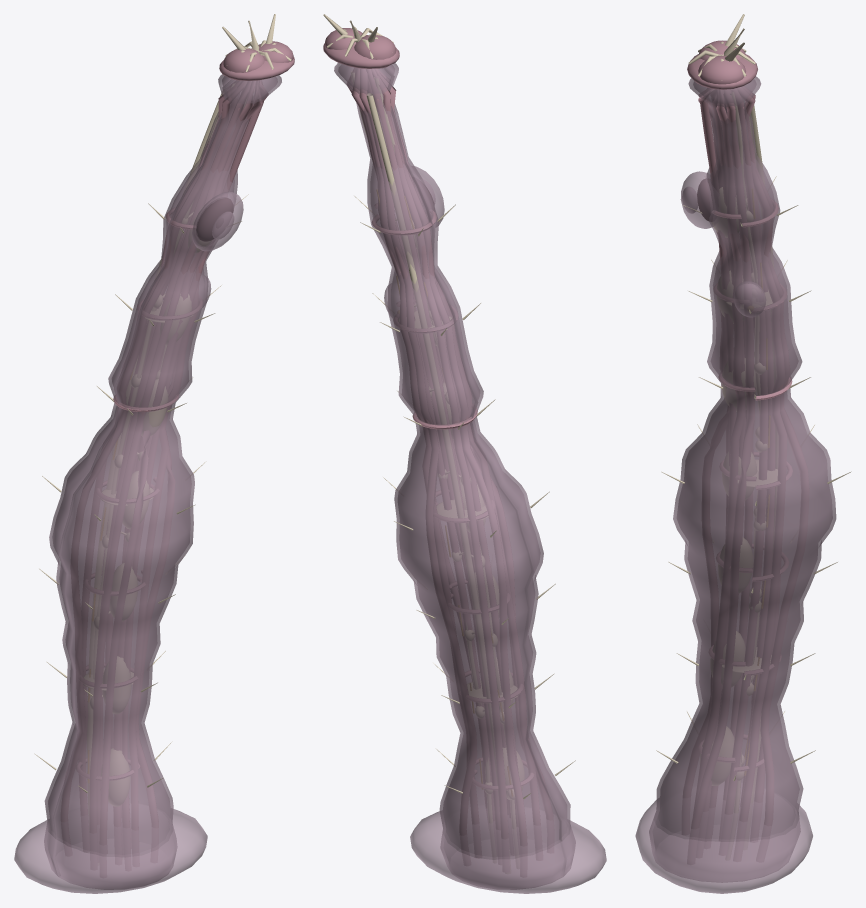
File: gang_normal.glb
3 renders of one model, left to right at view 1: azimuth 30°, elevation 25°; view 2: azimuth 150°, elevation 25°; view 3: azimuth 270°, elevation 25°, orthographic. The views are drawn at different scales.
Visible parts, largest first — view 1: MEMBRANE_epithelial_shell, MUSCLE, MEMBRANE_root_collar, PRESSURE, VASCULAR_dorsal_channel, OCELLUS_cornea, DIGESTIVE_intake_groove, NERVE, PIGMENT_retinal_cup, TIP_adhesive_disk, CILIUM, TIP_probing_lobe; view 2: MEMBRANE_epithelial_shell, MUSCLE, MEMBRANE_root_collar, DIGESTIVE_intake_groove, NERVE, TIP_adhesive_disk, CILIUM, PRESSURE, TIP_probing_lobe, OCELLUS_cornea, COLLAGEN, GANGLION; view 3: MEMBRANE_epithelial_shell, MUSCLE, MEMBRANE_root_collar, PRESSURE, VASCULAR_dorsal_channel, OCELLUS_cornea, NERVE, TIP_probing_lobe.001, DIGESTIVE_intake_groove, STATOCYST_chamber, TIP_adhesive_disk, CILIUM (+3 smaller).
Boxes of the visible parts, bbox=[...] form: MEMBRANE_epithelial_shell: bbox=[44, 74, 281, 889]; MUSCLE: bbox=[61, 80, 268, 845]; MEMBRANE_root_collar: bbox=[14, 808, 207, 893]; PRESSURE: bbox=[101, 218, 211, 806]; VASCULAR_dorsal_channel: bbox=[122, 99, 263, 828]; OCELLUS_cornea: bbox=[192, 191, 243, 251]; DIGESTIVE_intake_groove: bbox=[87, 91, 223, 815]; NERVE: bbox=[93, 84, 245, 696]; PIGMENT_retinal_cup: bbox=[196, 197, 233, 241]; TIP_adhesive_disk: bbox=[219, 48, 294, 80]; CILIUM: bbox=[34, 194, 248, 792]; TIP_probing_lobe: bbox=[223, 48, 264, 80]; MEMBRANE_epithelial_shell: bbox=[334, 62, 575, 889]; MUSCLE: bbox=[347, 68, 553, 846]; MEMBRANE_root_collar: bbox=[410, 811, 606, 893]; DIGESTIVE_intake_groove: bbox=[366, 93, 498, 792]; NERVE: bbox=[351, 72, 515, 828]; TIP_adhesive_disk: bbox=[323, 35, 399, 68]; CILIUM: bbox=[354, 196, 575, 798]; PRESSURE: bbox=[413, 235, 524, 799]; TIP_probing_lobe: bbox=[354, 35, 396, 68]; OCELLUS_cornea: bbox=[412, 166, 444, 226]; COLLAGEN: bbox=[398, 311, 517, 699]; GANGLION: bbox=[411, 223, 514, 799]; MEMBRANE_epithelial_shell: bbox=[649, 76, 836, 882]; MUSCLE: bbox=[683, 86, 809, 829]; MEMBRANE_root_collar: bbox=[635, 798, 812, 893]; PRESSURE: bbox=[700, 187, 756, 785]; VASCULAR_dorsal_channel: bbox=[699, 99, 736, 811]; OCELLUS_cornea: bbox=[680, 171, 716, 228]; NERVE: bbox=[730, 92, 760, 813]; TIP_probing_lobe.001: bbox=[698, 55, 745, 84]; DIGESTIVE_intake_groove: bbox=[749, 105, 778, 803]; STATOCYST_chamber: bbox=[733, 281, 765, 317]; TIP_adhesive_disk: bbox=[687, 54, 757, 89]; CILIUM: bbox=[656, 176, 851, 780].
Bounding box in the file's own units: 0.2567 × 0.7415 × 0.158.
